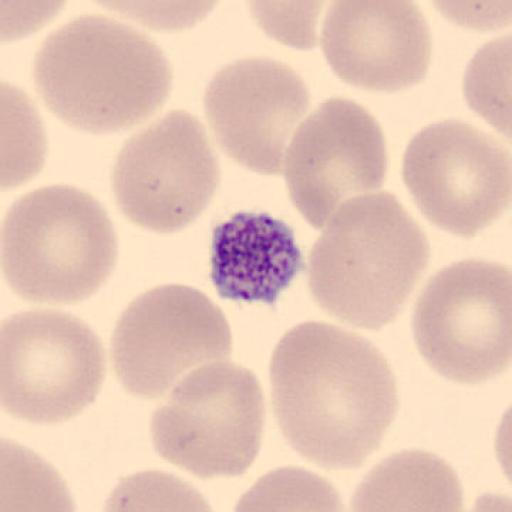Platelet: (205, 207, 308, 306)
RBC: (267, 318, 400, 472), (31, 12, 174, 138), (305, 189, 430, 330), (2, 180, 120, 308), (282, 96, 389, 235), (111, 282, 233, 402), (109, 107, 221, 237), (150, 359, 268, 480), (398, 115, 512, 239), (200, 53, 312, 177), (409, 254, 511, 384), (2, 307, 108, 425), (318, 1, 433, 95), (349, 445, 465, 512), (2, 434, 78, 512), (230, 464, 347, 512), (97, 467, 219, 512), (2, 80, 51, 192), (461, 32, 512, 137), (243, 0, 344, 52), (75, 0, 225, 34), (422, 0, 511, 35), (1, 0, 72, 42), (490, 400, 512, 506), (492, 406, 512, 482), (465, 486, 510, 512)
